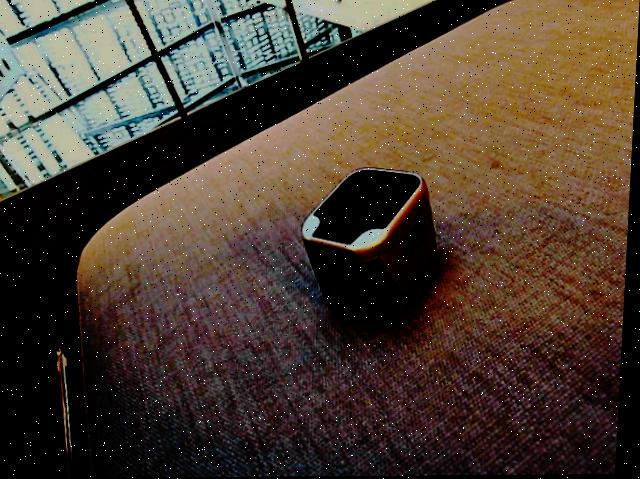adapter: (299, 166, 443, 321)
